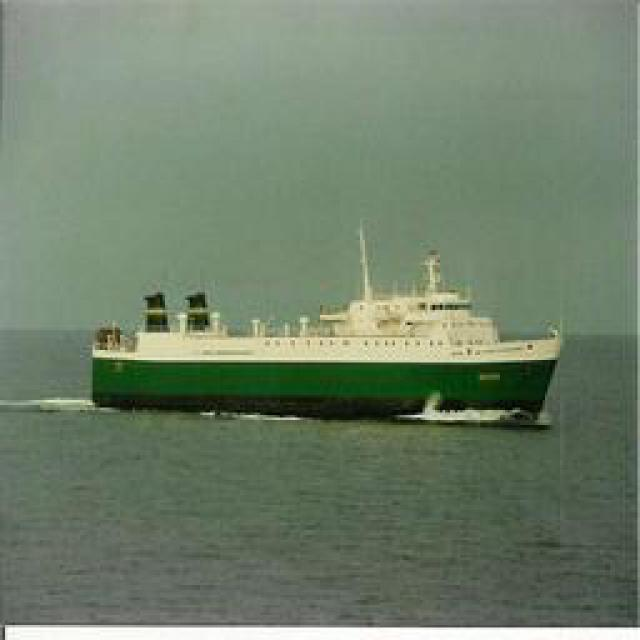Ship: (96, 222, 566, 422)
